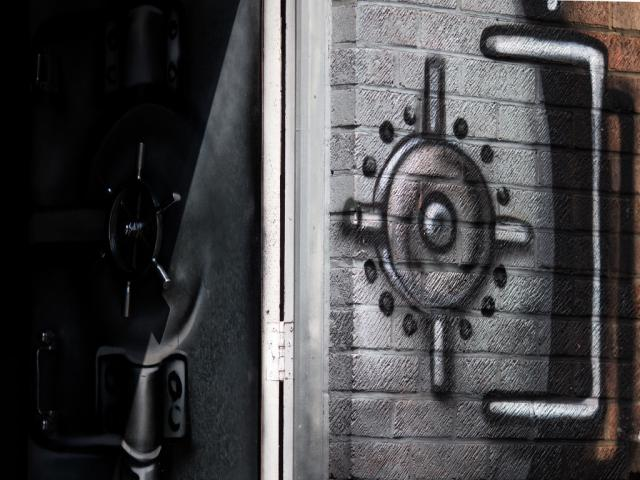Door-handle: (338, 45, 530, 395), (476, 27, 602, 432), (85, 136, 192, 325), (33, 327, 54, 434)
